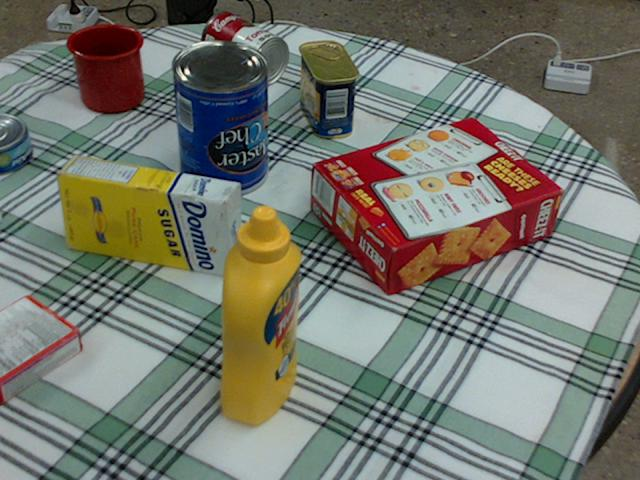cracker_box: (313, 117, 562, 295)
gelatin_box: (0, 294, 81, 402)
large_marker: (0, 213, 1, 221)
master_chef_can: (170, 40, 266, 196)
mug: (68, 23, 145, 111)
mustard_bottle: (220, 205, 300, 422)
potted_meat_can: (297, 40, 358, 137)
sugar_box: (56, 155, 240, 276)
tomato_soup_can: (201, 11, 287, 82)
tuna_fish_can: (0, 112, 32, 173)
